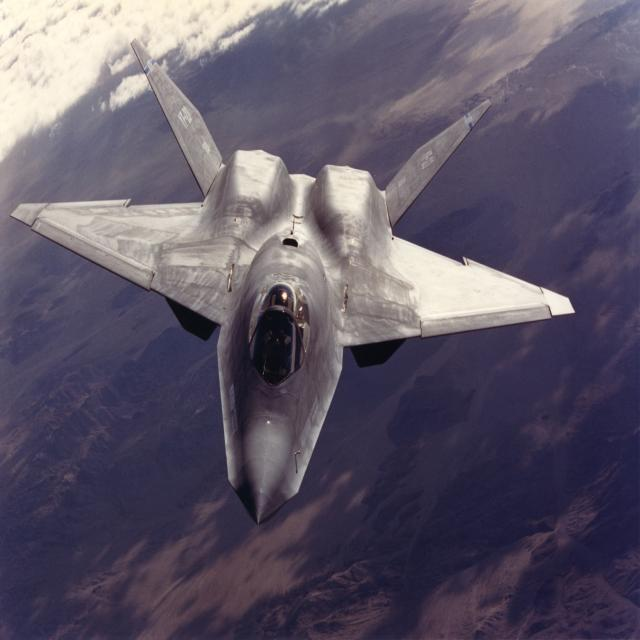MIL_Plane: (10, 37, 575, 524)
